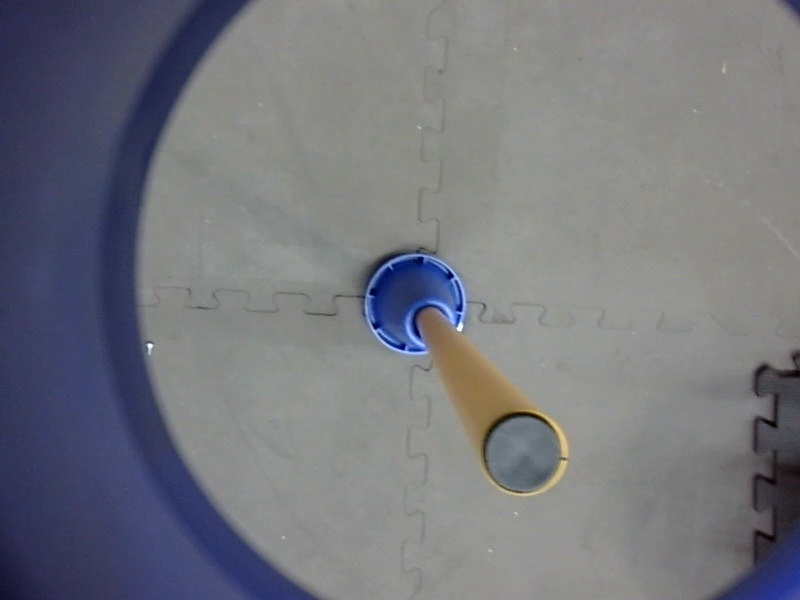tip: (475, 403, 575, 505)
